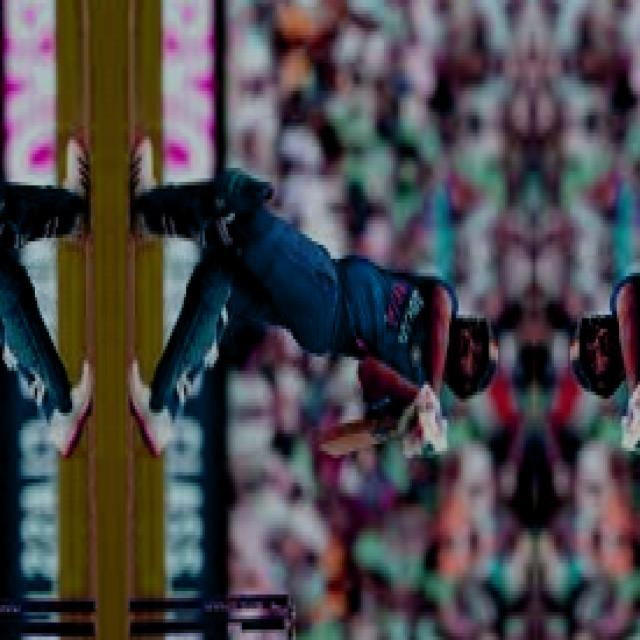toe: (311, 426, 358, 465)
